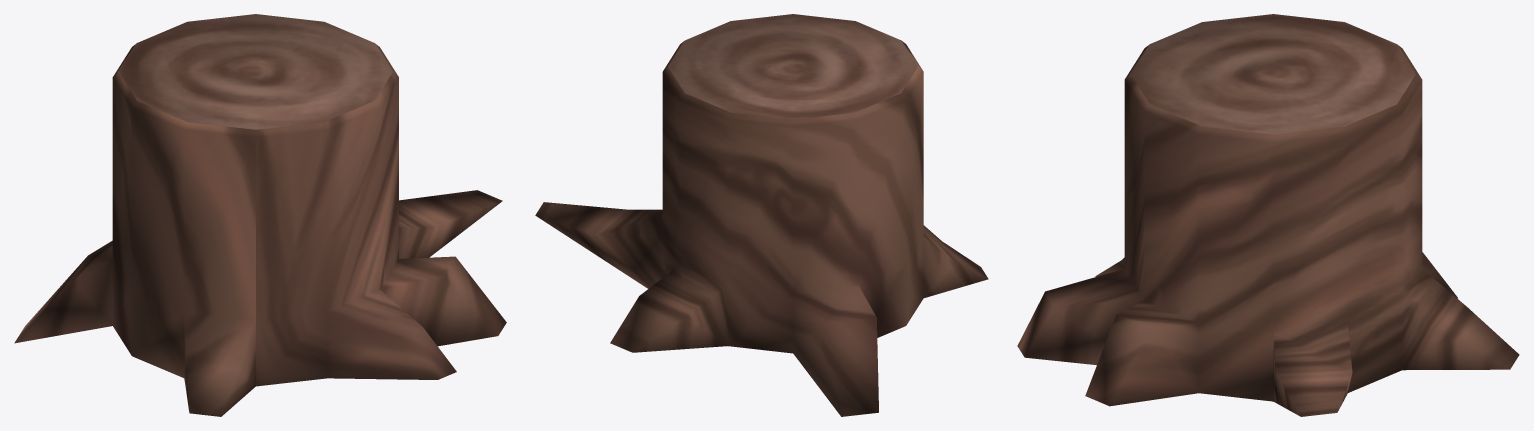
Rendered from BaumstammFixed.fbx.
3 renders of one model, left to right at view 1: azimuth 30°, elevation 25°; view 2: azimuth 150°, elevation 25°; view 3: azimuth 270°, elevation 25°, orthographic. The views are drawn at different scales.
Visible parts, largest first — view 1: Cylinder; view 2: Cylinder; view 3: Cylinder.
Boxes of the visible parts, left/top/right/bottom form: Cylinder: left=14, top=14, right=506, bottom=416; Cylinder: left=535, top=14, right=988, bottom=416; Cylinder: left=1017, top=14, right=1519, bottom=416.
Bounding box in the file's own units: 188 × 119 × 183.
